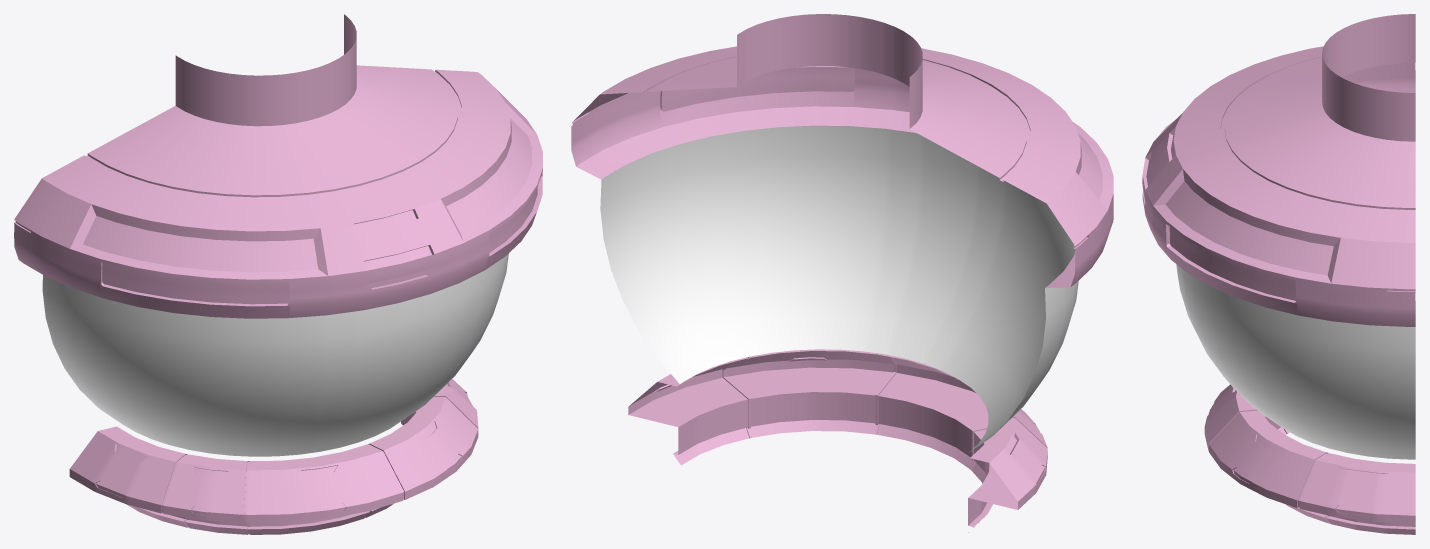
File: Main 1,2_uvfix.fbx
3 views of the same model, side by side, from view 1: azimuth 30°, elevation 25°; view 2: azimuth 150°, elevation 25°; view 3: azimuth 270°, elevation 25° (orthographic). The views are drawn at different scales.
Visible parts, largest first — view 1: Main2, Main1; view 2: Main2, Main1; view 3: Main2, Main1.
Boxes of the visible parts, x1=… form: Main2: x1=14, y1=14, x2=542, y2=456; Main1: x1=69, y1=379, x2=478, y2=534; Main2: x1=571, y1=14, x2=1113, y2=452; Main1: x1=628, y1=349, x2=1047, y2=532; Main2: x1=1142, y1=14, x2=1415, y2=459; Main1: x1=1204, y1=384, x2=1415, y2=534.
Size of the model in its own units: 64.55 by 54.36 by 32.32.
